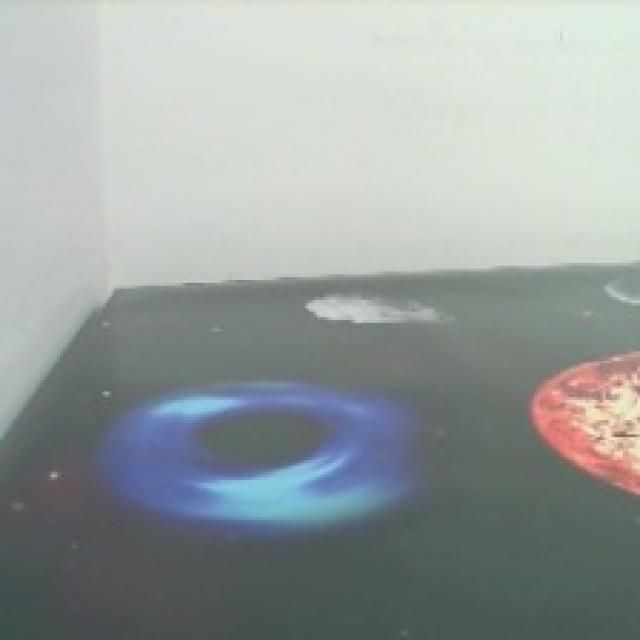Black Hole: (100, 386, 418, 524), (307, 285, 451, 323)
Earth: (605, 266, 640, 305)
Sun: (529, 350, 640, 500)
